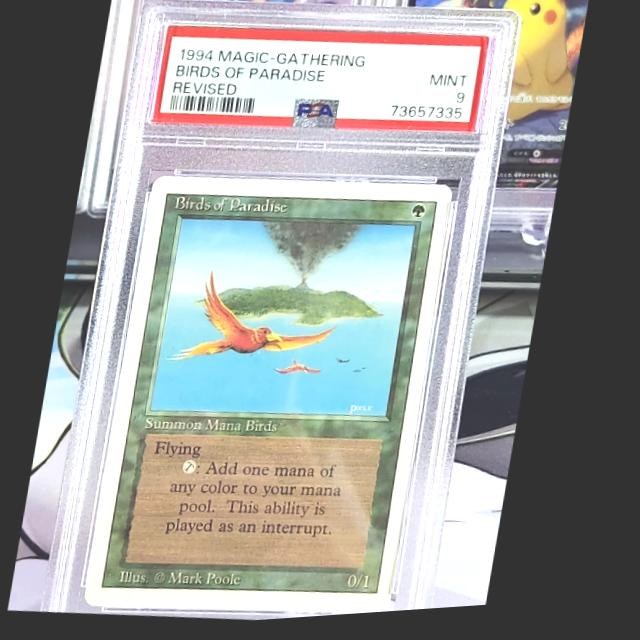card: (91, 176, 457, 618)
psa_label: (152, 26, 491, 139)
psa_slab: (48, 0, 522, 624)
